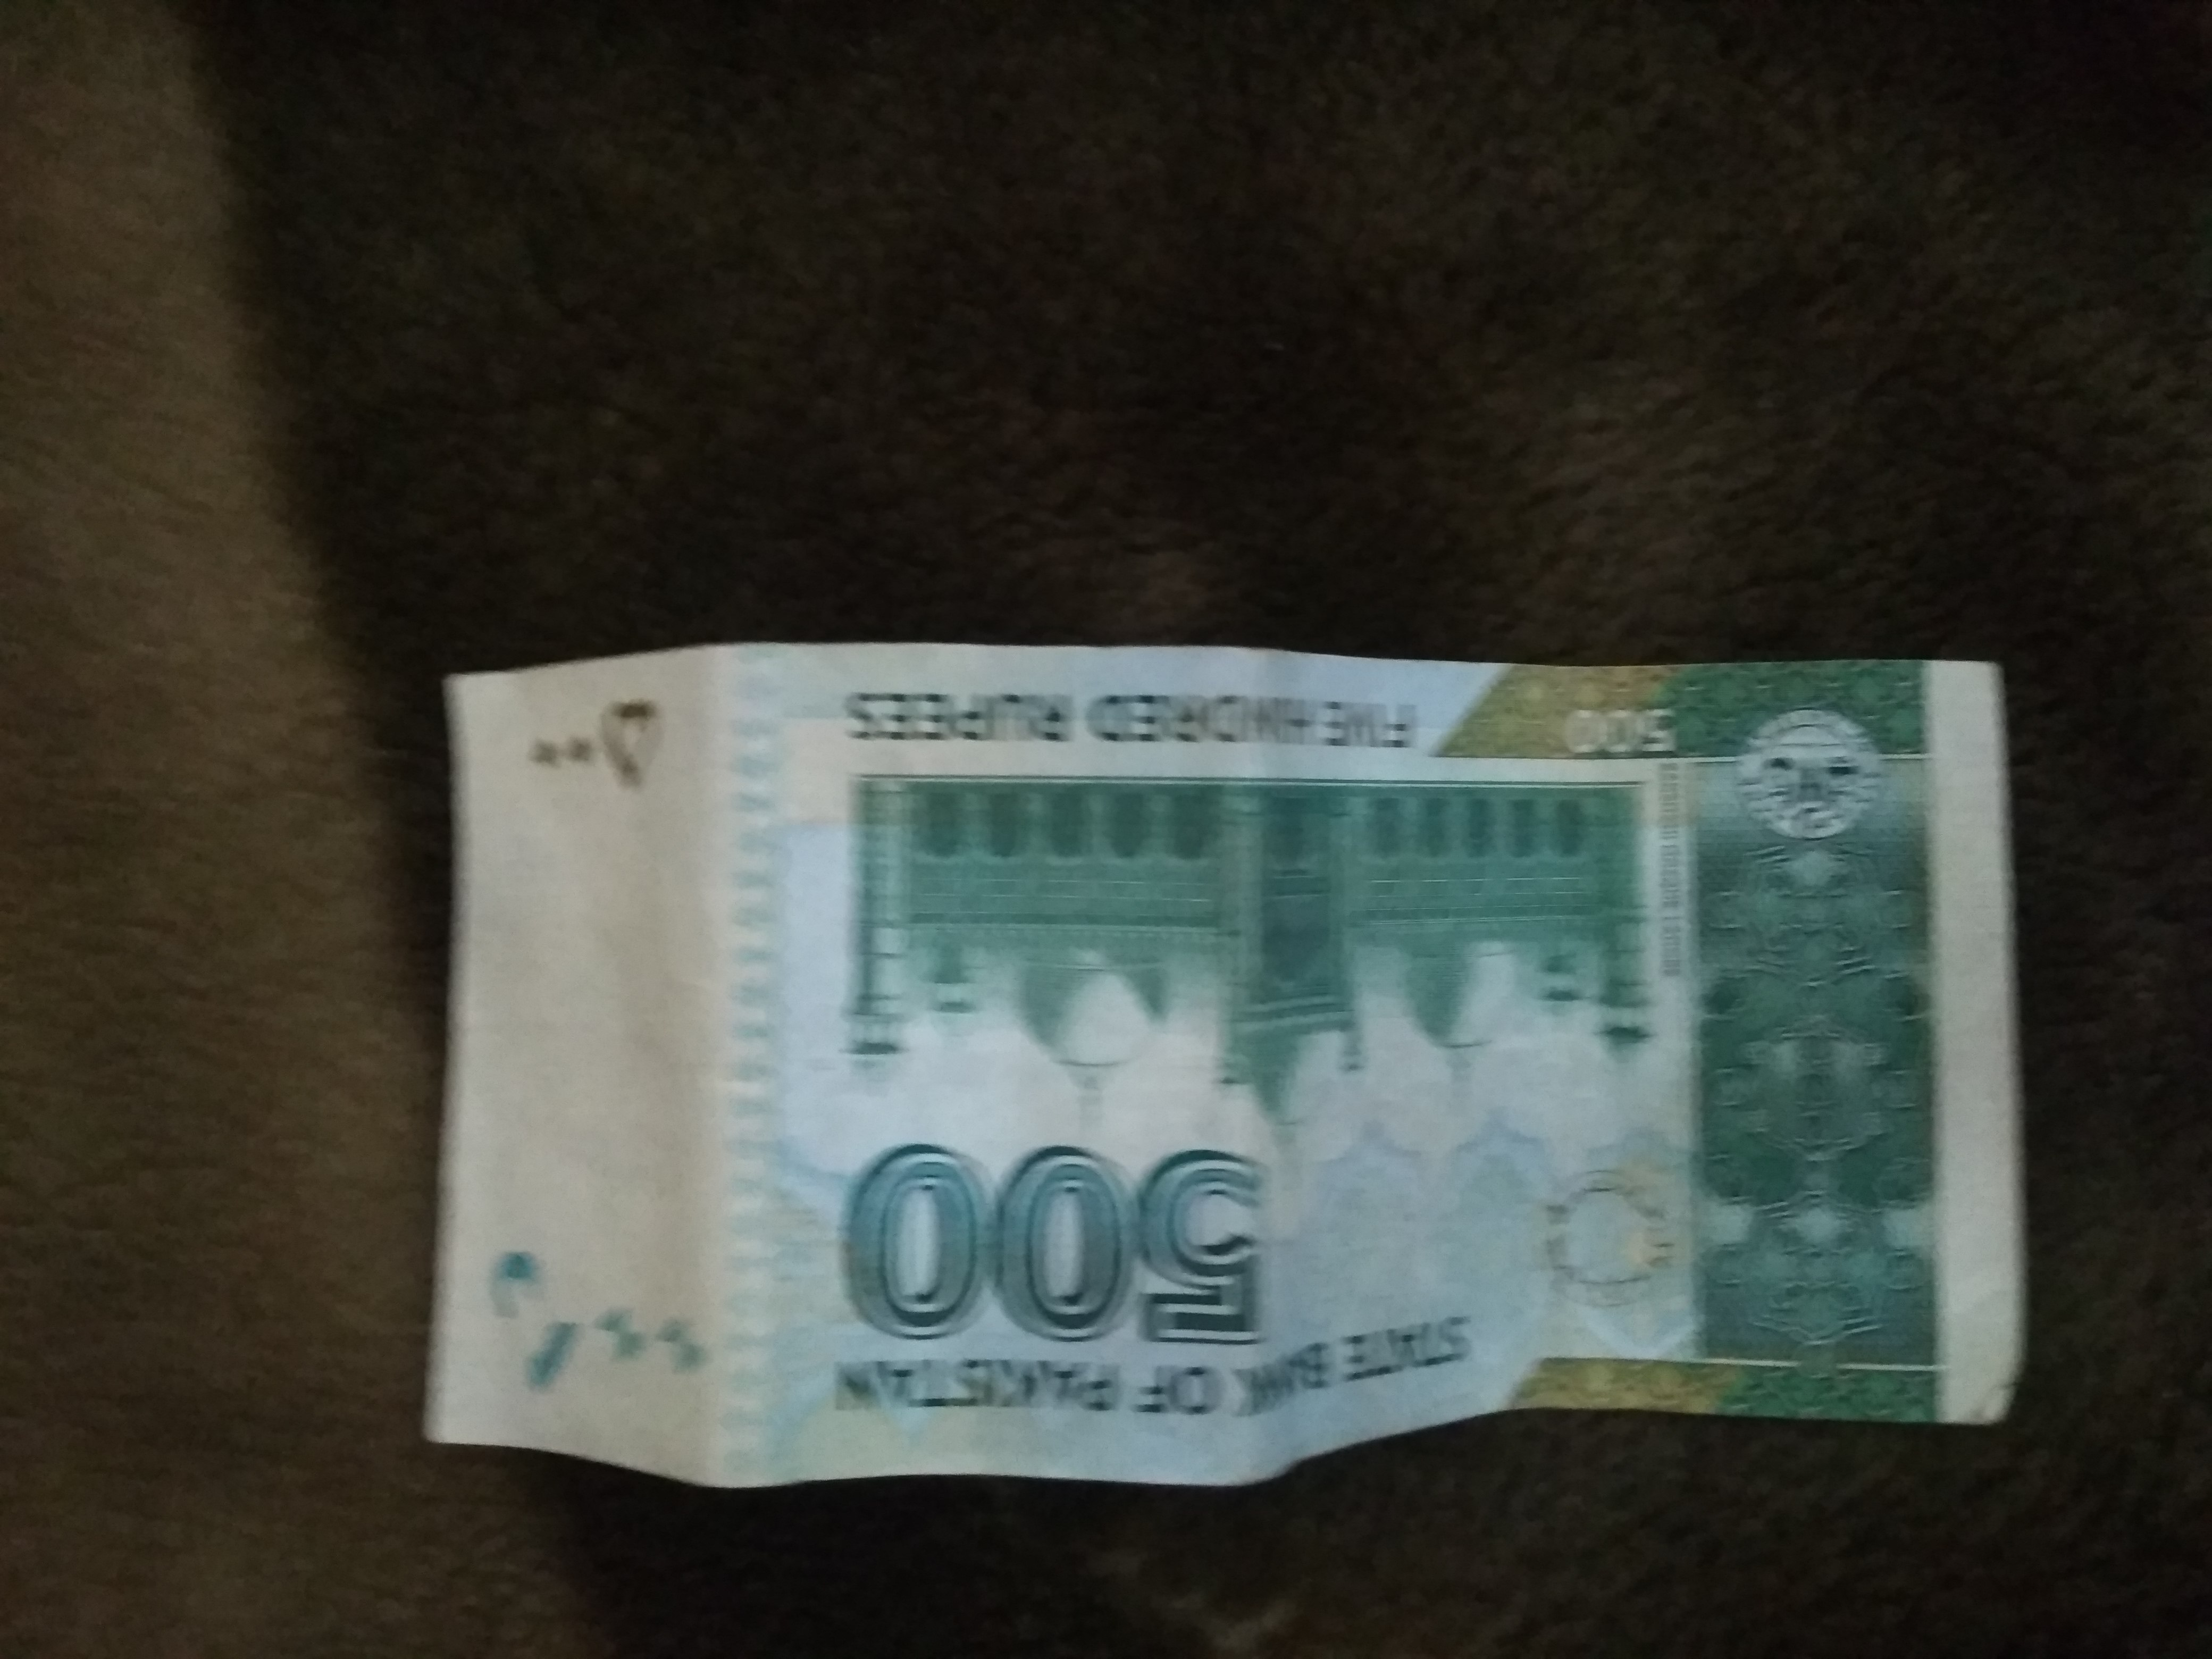500 rupee: (411, 606, 2087, 1486)
